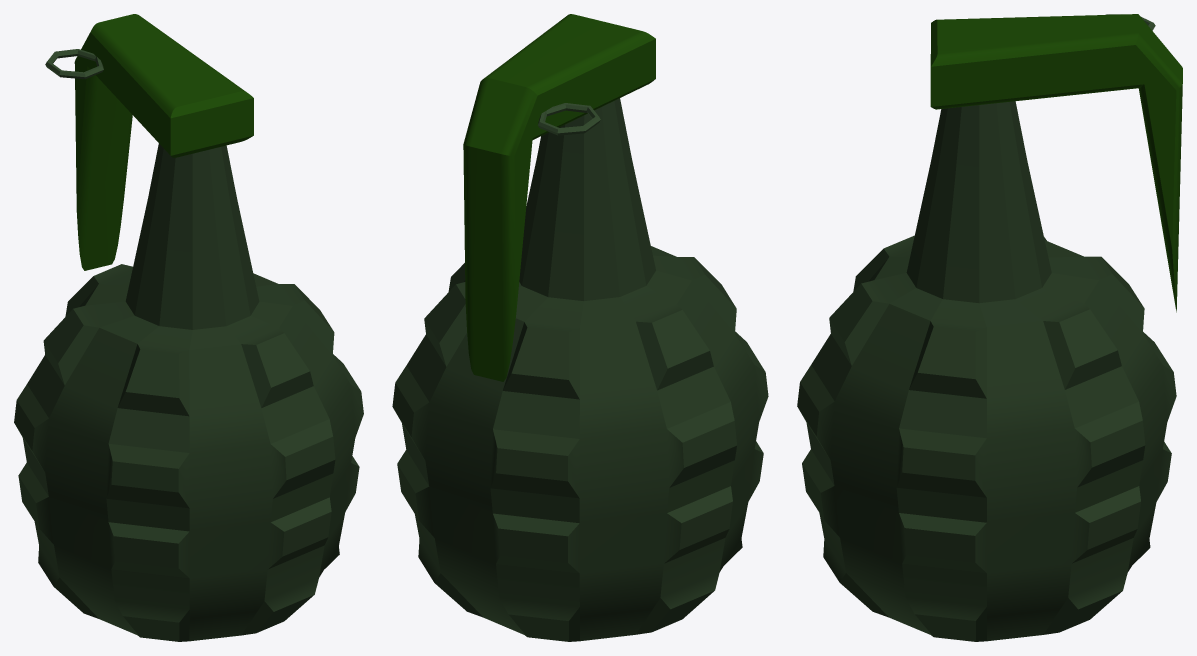
Rendered from granada.fbx.
3 renders of one model, left to right at view 1: azimuth 30°, elevation 25°; view 2: azimuth 150°, elevation 25°; view 3: azimuth 270°, elevation 25°, orthographic. The views are drawn at different scales.
Visible parts, largest first — view 1: pSphere1, pCube1, pTorus1; view 2: pSphere1, pCube1, pTorus1; view 3: pSphere1, pCube1.
Boxes of the visible parts, x1,y1,x2,y2 form: pSphere1: [14, 143, 363, 641]; pCube1: [74, 14, 253, 270]; pTorus1: [45, 49, 103, 79]; pSphere1: [392, 98, 768, 641]; pCube1: [463, 14, 655, 381]; pTorus1: [538, 103, 600, 135]; pSphere1: [797, 101, 1176, 641]; pCube1: [930, 14, 1182, 312].
Bounding box in the file's own units: 1.74 × 3.01 × 1.78.
